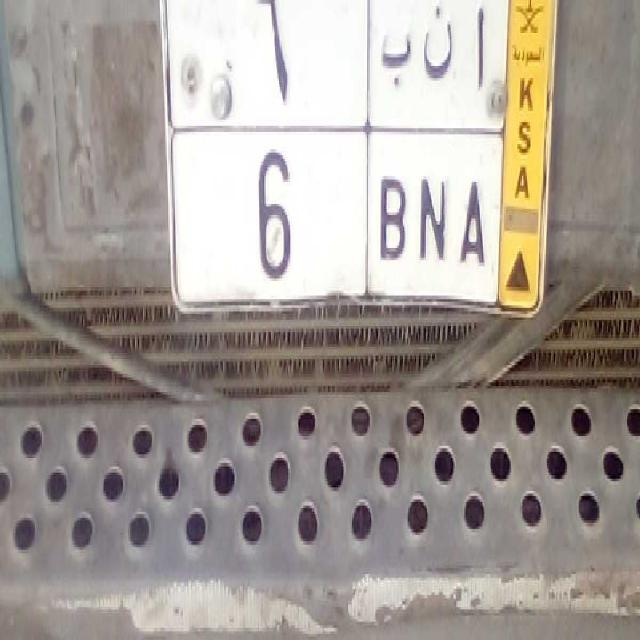license_plate: (170, 127, 500, 306)
